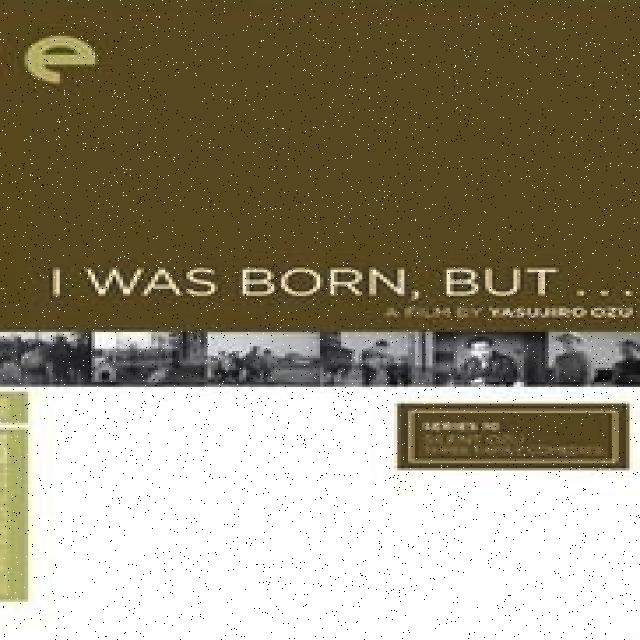movie-judul: (37, 258, 640, 304)
picture: (2, 332, 640, 389)
